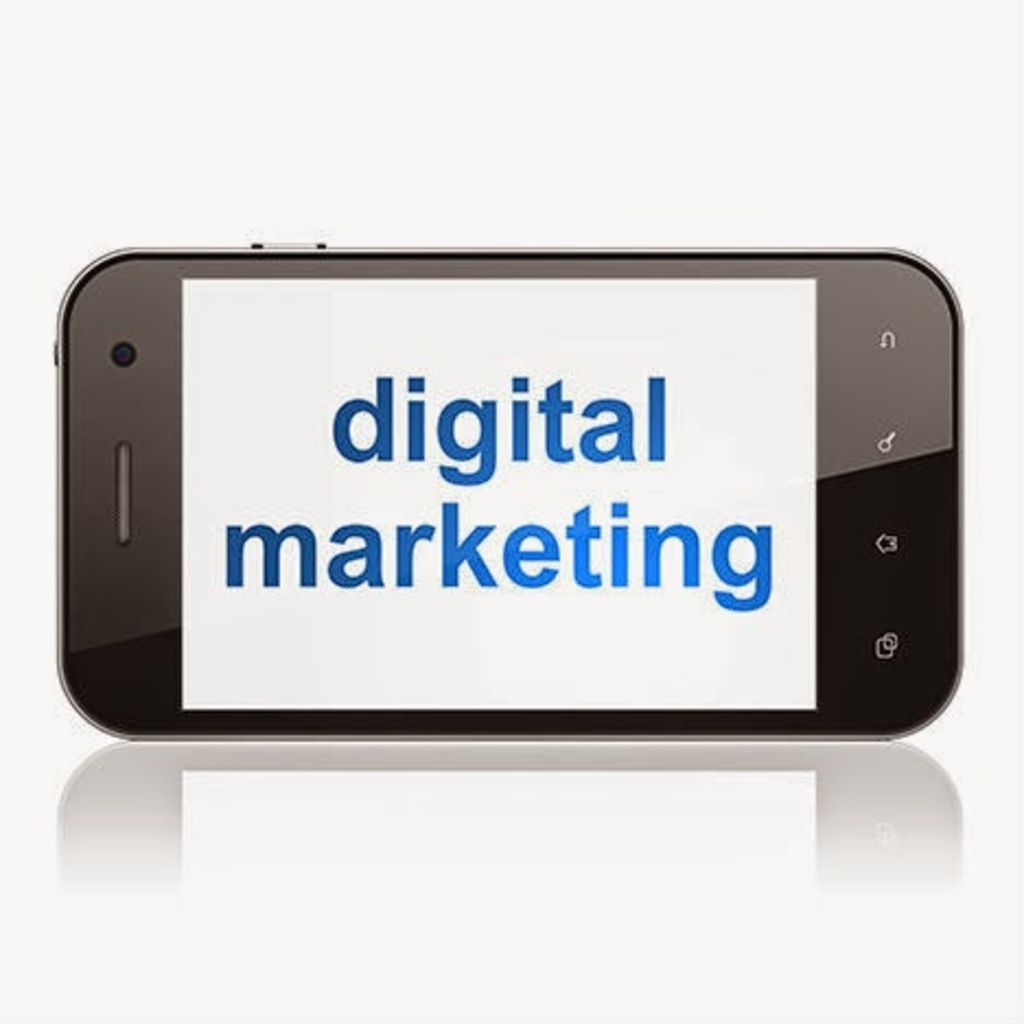mobile phone: (2, 242, 1004, 778)
